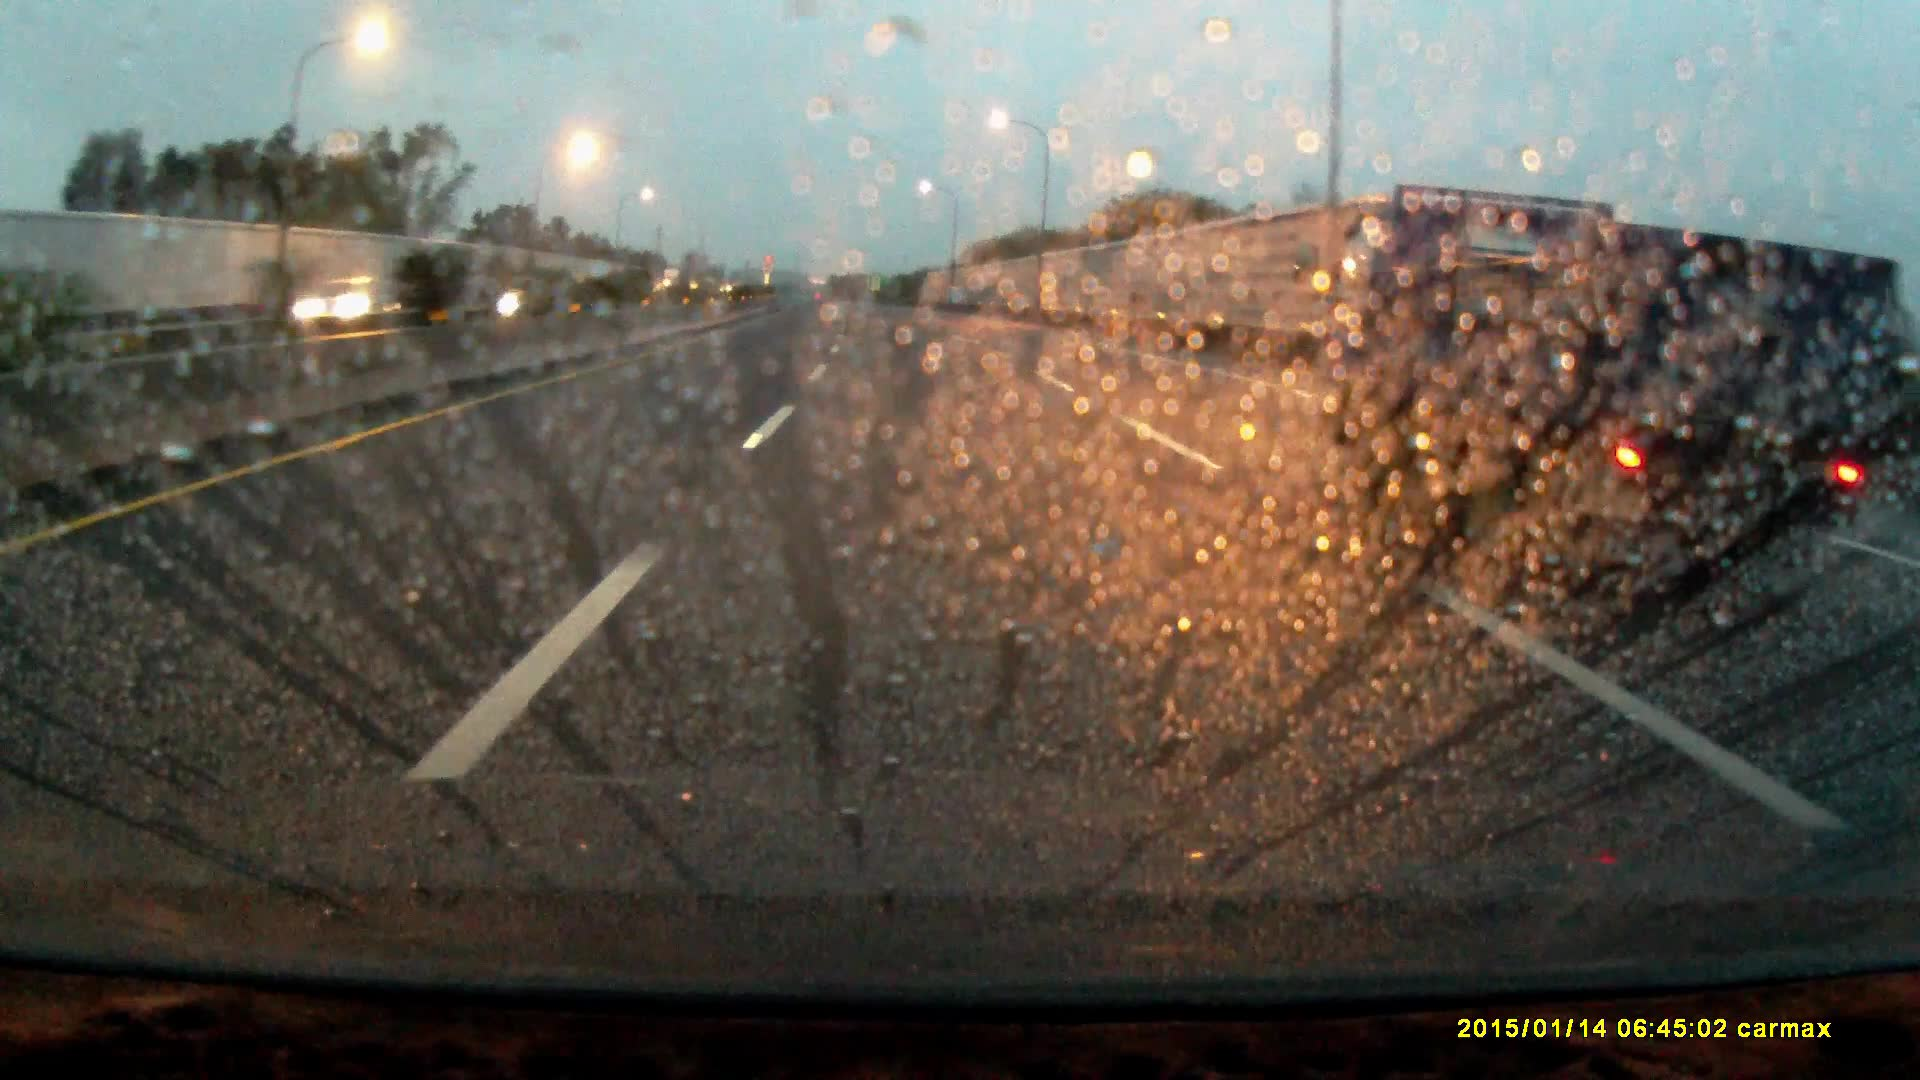vehicle: (1287, 193, 1863, 600), (299, 277, 397, 323), (472, 269, 547, 316), (663, 269, 686, 299)
